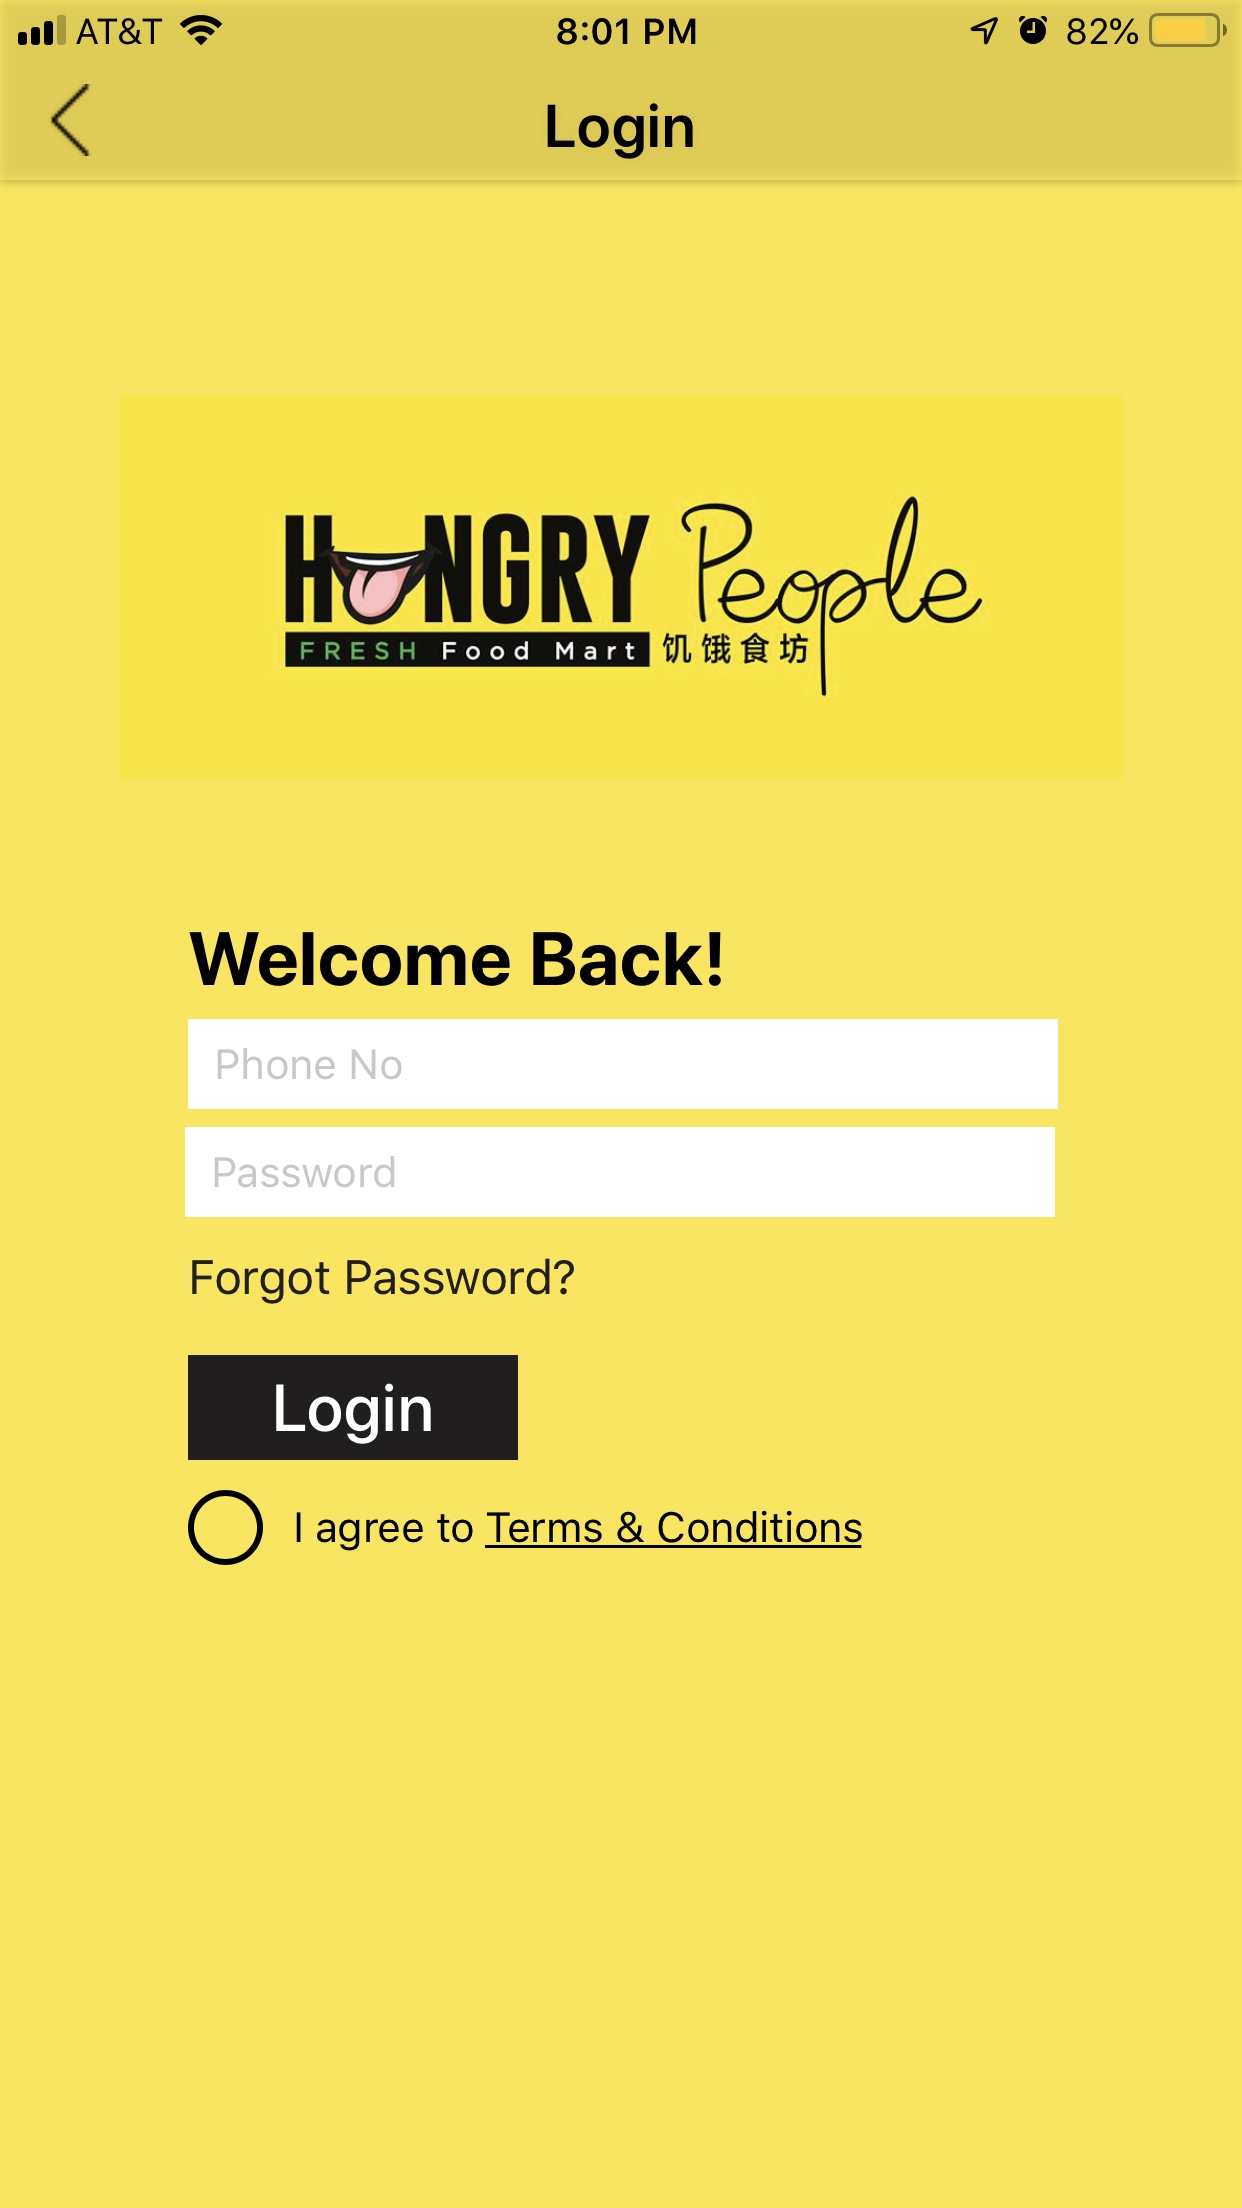CheckedTextView: (188, 1491, 863, 1567)
EditText: (187, 1127, 1055, 1218), (190, 1019, 1059, 1110)
Icon: (50, 83, 91, 158)
Image: (285, 494, 984, 698)
Text: (190, 933, 722, 987), (296, 1510, 863, 1551), (193, 1257, 576, 1306), (547, 105, 695, 161), (218, 1049, 403, 1081), (215, 1157, 396, 1189)
TextButton: (190, 1356, 519, 1460)
UpperTaskBar: (2, 2, 1242, 49)
